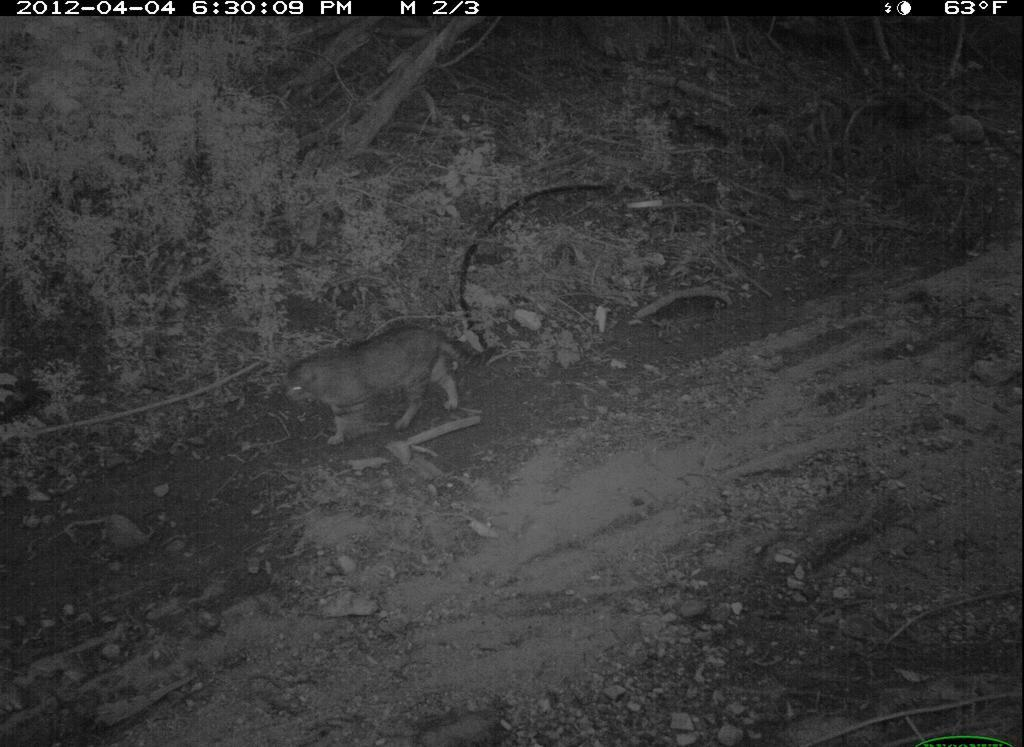cat: (277, 312, 484, 452)
